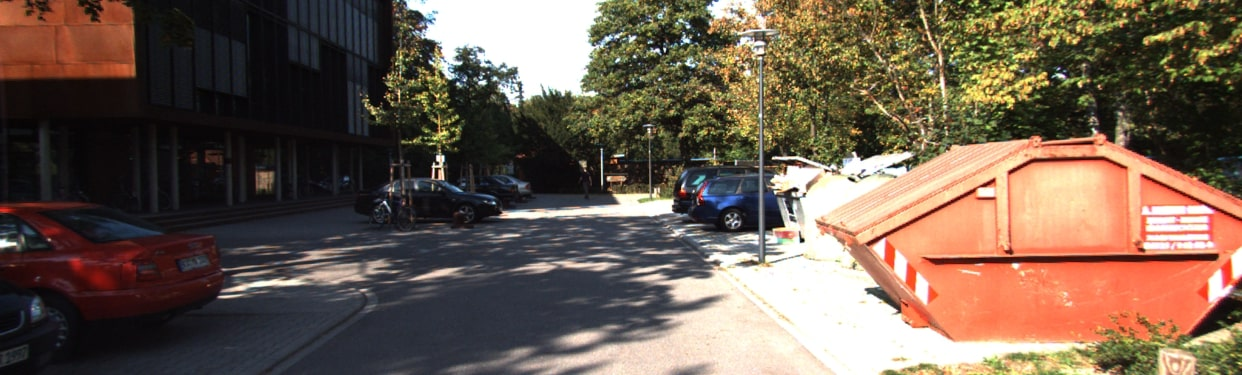car: (3, 188, 248, 322), (361, 178, 499, 225), (673, 164, 782, 218)
